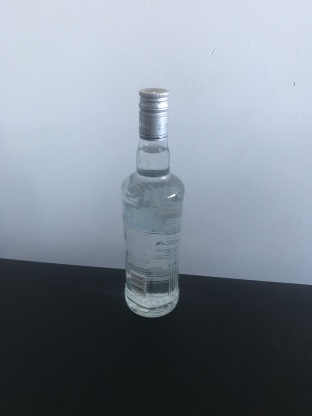nakretka: (136, 82, 172, 142)
